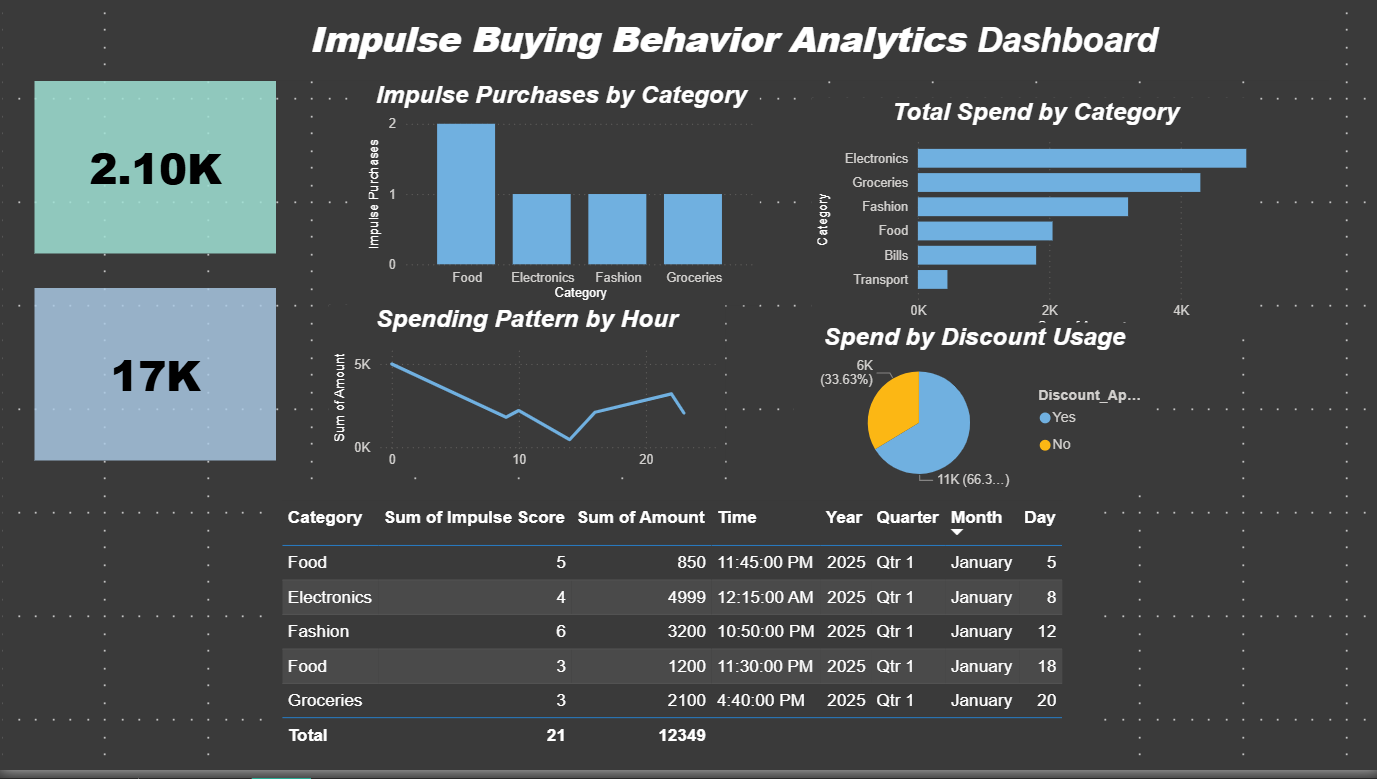

The page's visual inventory and layout, read from the dashboard file:
{"tool":"powerbi","page":{"name":"Page 1","canvas":[1280,720],"ordinal":0},"visuals":[{"type":"card","fields":{"Values":["Sum(transactions.Amount)"]},"box":[32,272,224,160],"z":0},{"type":"card","fields":{"Values":["Avg(transactions.Amount)"]},"box":[32,80,224,160],"z":1000},{"type":"clusteredColumnChart","title":"Impulse Purchases by Category","fields":{"Y":["transactions.Impulse Purchases"],"Category":["transactions.Category"]},"box":[336,80,368,208],"z":2000},{"type":"clusteredBarChart","title":"Total Spend by Category","fields":{"Category":["transactions.Category"],"Y":["Sum(transactions.Amount)"]},"box":[752,96,416,176],"z":3000},{"type":"lineChart","title":"Spending Pattern by Hour","fields":{"Category":["transactions.Hour"],"Y":["Sum(transactions.Amount)"]},"box":[304,288,368,160],"z":4000},{"type":"pieChart","title":"Spend by Discount Usage","fields":{"Category":["transactions.Discount_Applied"],"Y":["Sum(transactions.Amount)"]},"box":[736,288,336,160],"z":5000},{"type":"tableEx","fields":{"Values":["transactions.Category","Sum(transactions.Impulse Score)","Sum(transactions.Amount)","transactions.Time","transactions.Date.Variation.Date Hierarchy.Year","transactions.Date.Variation.Date Hierarchy.Quarter","transactions.Date.Variation.Date Hierarchy.Month","transactions.Date.Variation.Date Hierarchy.Day"]},"box":[256,448,768,272],"z":6000},{"type":"textbox","box":[112,0,1120,80],"z":8001}]}

Visuals, with their boxes in screenshot pixels (x1, y1, x2, y2), scaled from the page's 1280x720 canvas onto the 1377x779 screenshot:
card - Sum(transactions.Amount): 34,294,275,467
card - Avg(transactions.Amount): 34,87,275,260
"Impulse Purchases by Category" clusteredColumnChart: 361,87,757,312
"Total Spend by Category" clusteredBarChart: 809,104,1257,294
"Spending Pattern by Hour" lineChart: 327,312,723,485
"Spend by Discount Usage" pieChart: 792,312,1153,485
tableEx - transactions.Category x Sum(transactions.Impulse Score): 275,485,1102,778
textbox: 120,0,1325,87
